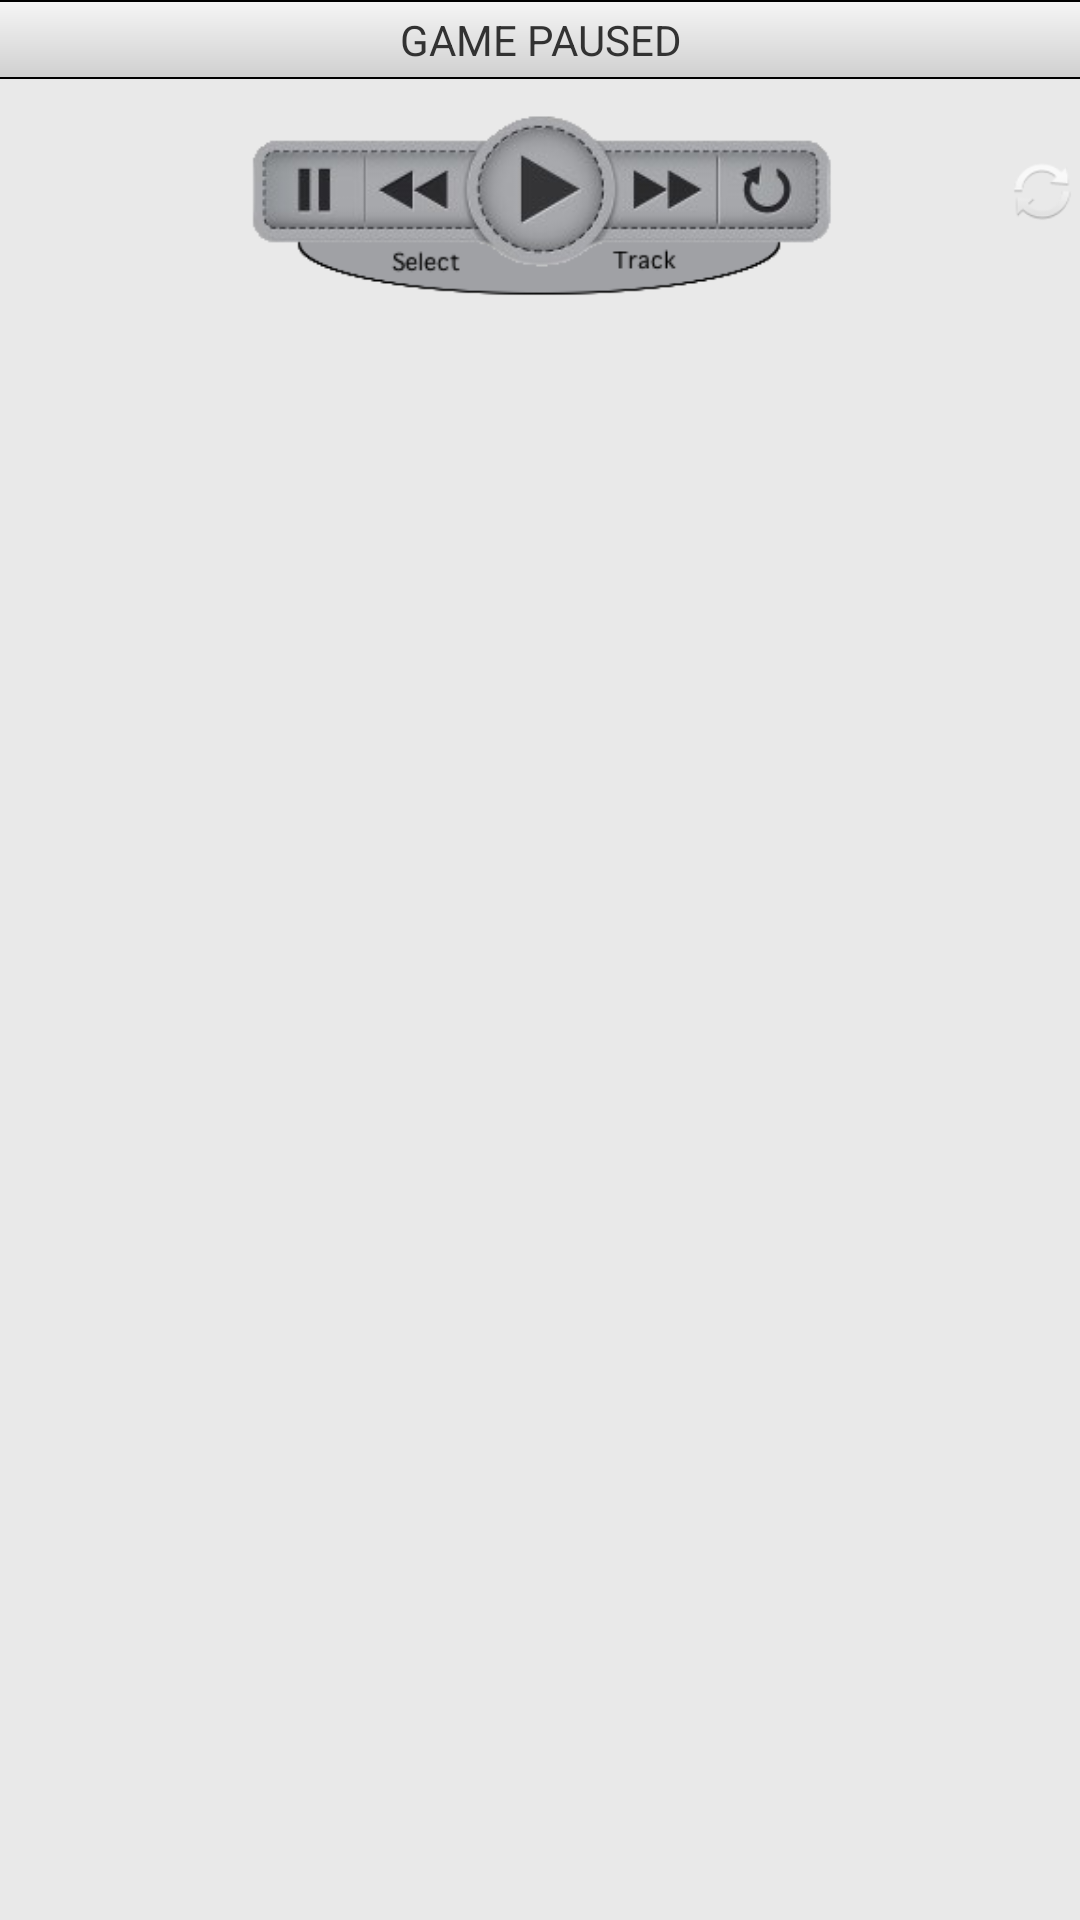

Screen size 1080 x 1920. Icon name, then its box in pixels as (x1, y1, x2, y2):
popup sync: (1015, 172, 1067, 219)
